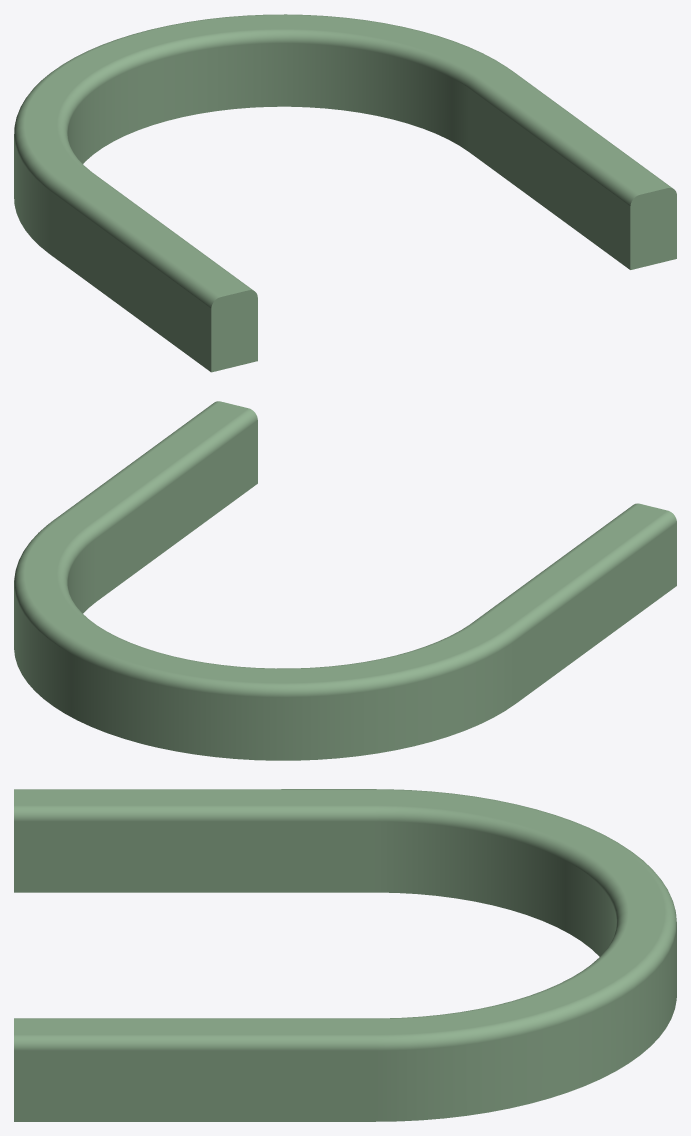
File: Tool.obj
3 renders of one model, top to bottom at view 1: azimuth 30°, elevation 25°; view 2: azimuth 150°, elevation 25°; view 3: azimuth 270°, elevation 25°, orthographic. The views are drawn at different scales.
Visible parts, largest first — view 1: Tool\Tool; view 2: Tool\Tool; view 3: Tool\Tool.
Part boxes in pixels (x1,y1,x2,y2): Tool\Tool: (14, 14, 676, 372); Tool\Tool: (14, 401, 676, 760); Tool\Tool: (14, 789, 676, 1121).
Bounding box in the file's own units: 10 × 1.5 × 11.
